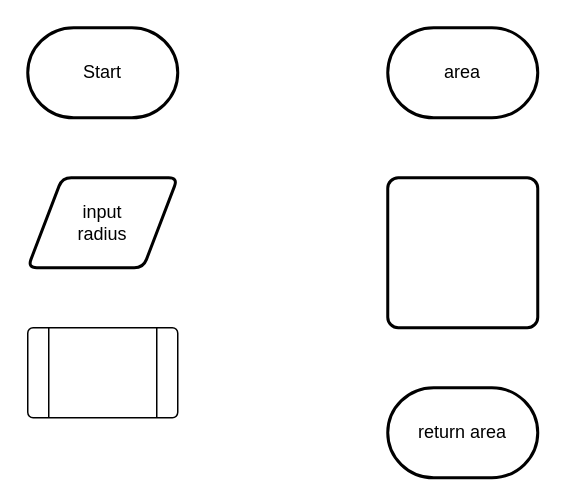
Some shapes in this 564 by 504 pixel diagram are drawn without their labels. Each missing label, with the box of its shape:
area = PI * radius * radius: (386, 176, 538, 328)
area(radius): (26, 326, 178, 418)
